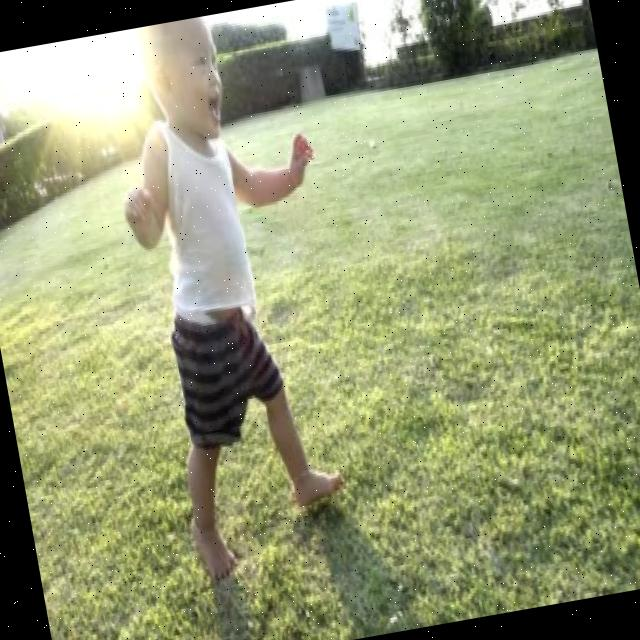Person: (92, 1, 379, 578)
